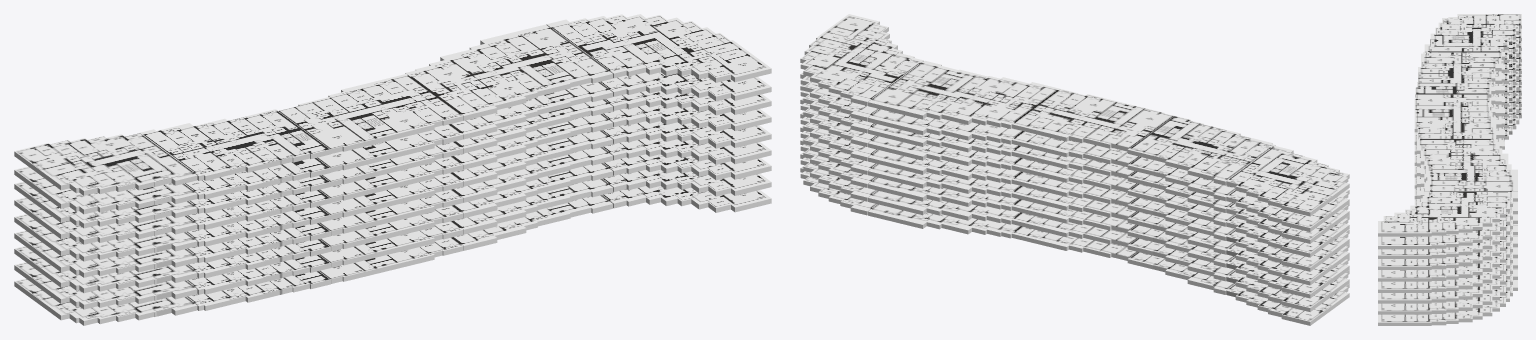
Rendered from plan2d.glb.
3 renders of one model, left to right at view 1: azimuth 30°, elevation 25°; view 2: azimuth 150°, elevation 25°; view 3: azimuth 270°, elevation 25°, orthographic. The views are drawn at different scales.
Parts seen in each view (by area): view 1: web9.2, web9.1, web9.3, web9.4, web9.5, web8.5, web5.5, web8.1, web1.5, web2.5, web6.5, web4.5 (+33 smaller); view 2: web9.2, web9.1, web9.3, web9.4, web9.5, web8.2, web5.2, web1.2, web2.2, web4.2, web6.2, web3.2 (+33 smaller); view 3: web9.2, web9.1, web9.3, web9.4, web9.5, web8.1, web5.1, web1.1, web2.1, web4.1, web6.1, web3.1 (+14 smaller).
Part boxes in pixels (x1,y1,x2,y2): web9.2: (405,24,612,120); web9.1: (546,14,771,82); web9.3: (279,74,463,153); web9.4: (140,109,330,180); web9.5: (14,133,197,195); web8.5: (14,166,197,214); web5.5: (14,214,197,261); web8.1: (599,72,771,101); web1.5: (14,278,197,325); web2.5: (14,262,197,309); web6.5: (14,197,197,244); web4.5: (14,230,197,277); web9.2: (868,60,1059,128); web9.1: (800,14,923,105); web9.3: (1012,89,1173,151); web9.4: (1127,115,1275,185); web9.5: (1226,146,1349,216); web8.2: (868,109,1023,144); web5.2: (868,150,1021,184); web1.2: (868,204,1021,238); web2.2: (868,190,1021,224); web4.2: (868,164,1021,197); web6.2: (868,136,1021,169); web3.2: (868,177,1020,210); web9.2: (1417,139,1517,191); web9.1: (1378,191,1517,236); web9.3: (1414,94,1496,139); web9.4: (1415,52,1504,97); web9.5: (1424,14,1521,51); web8.1: (1378,204,1517,249); web5.1: (1378,237,1517,281); web1.1: (1378,281,1517,325); web2.1: (1378,270,1517,314); web4.1: (1378,248,1517,292); web6.1: (1378,225,1517,269); web3.1: (1378,258,1517,303).
Bounding box in the file's own units: 2.12 × 0.4176 × 0.5871.
Materials: 45 (45 with a texture image).
